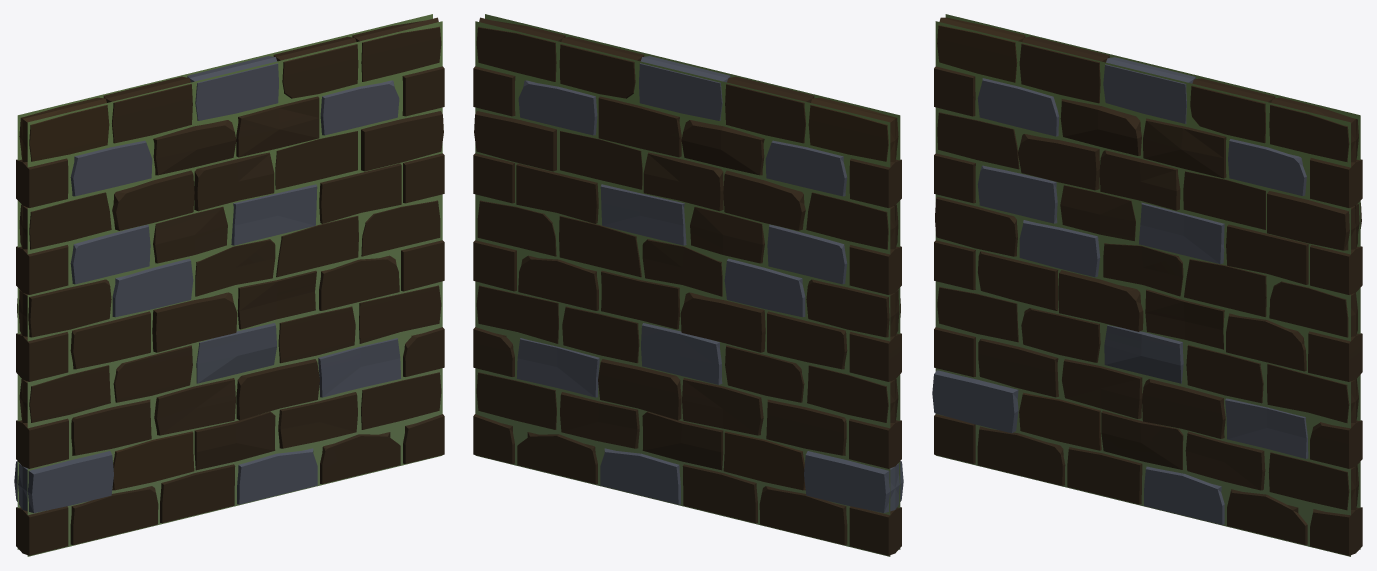
The model's file is Wall_22.fbx.
3 renders of one model, left to right at view 1: azimuth 30°, elevation 25°; view 2: azimuth 150°, elevation 25°; view 3: azimuth 330°, elevation 25°, orthographic.
Parts seen in each view (by area): view 1: Wall_22; view 2: Wall_22; view 3: Wall_22.
Part boxes in pixels (box(x1,y1,x2,y2)): Wall_22: box(14, 14, 444, 556); Wall_22: box(473, 14, 903, 556); Wall_22: box(932, 14, 1362, 556).
Bounding box in the file's own units: 4 × 4 × 0.2958.
